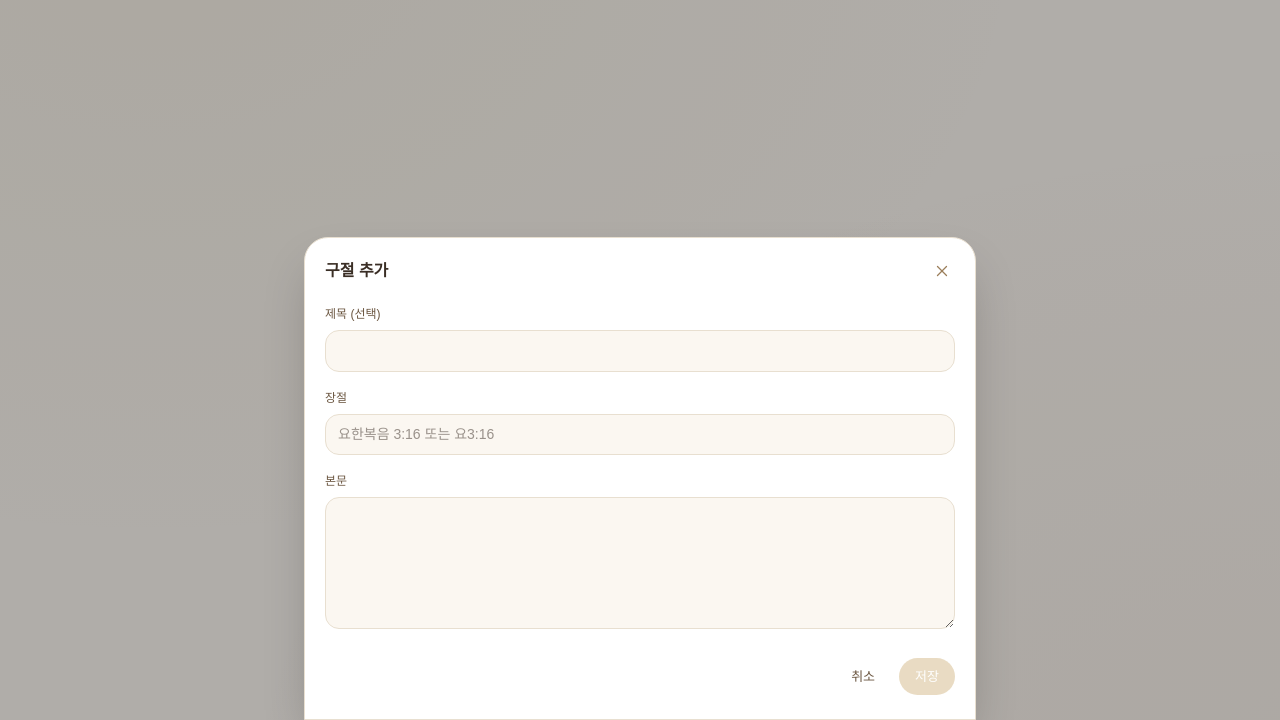
Test case: VerseEditSheet › on blur, normalizes but does NOT overwrite a non-empty 본문
Type "사용자가 직접 적은 내용" into the text box labelled "본문" at (640, 563), box [325,497,955,629]
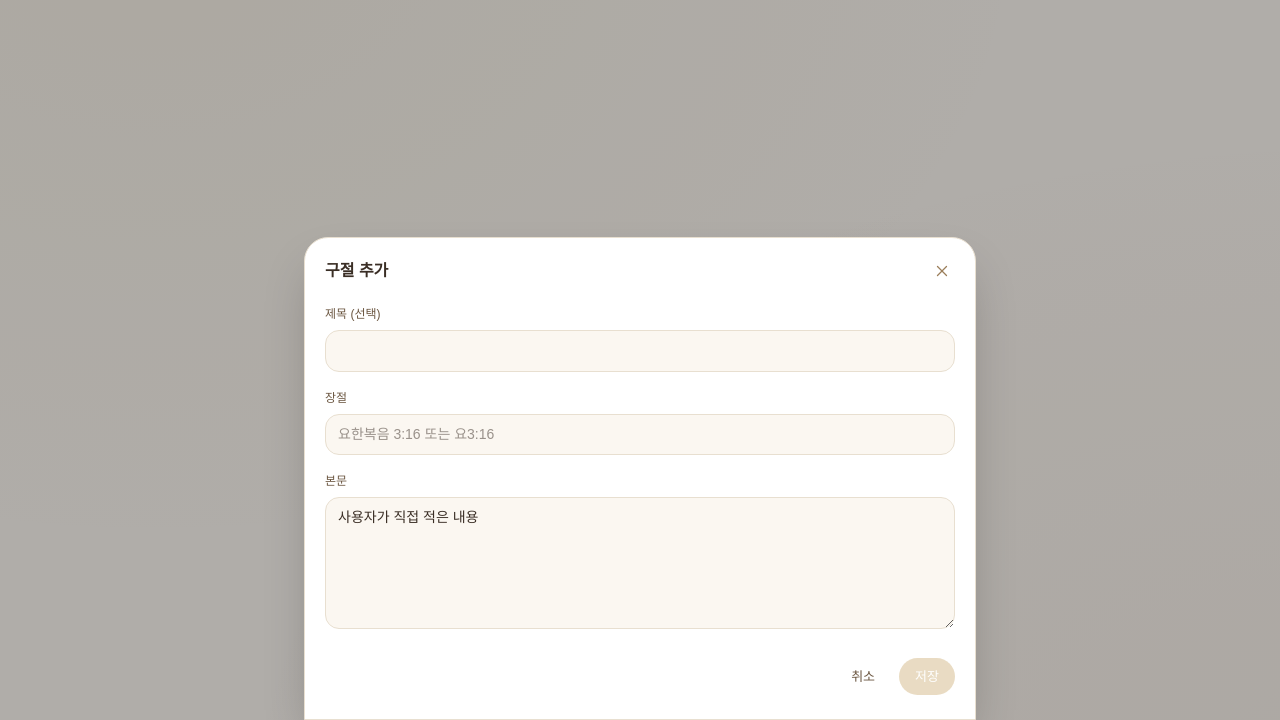
Type "요3:16" into the field labelled "장절" at (640, 434), box [325,414,955,455]
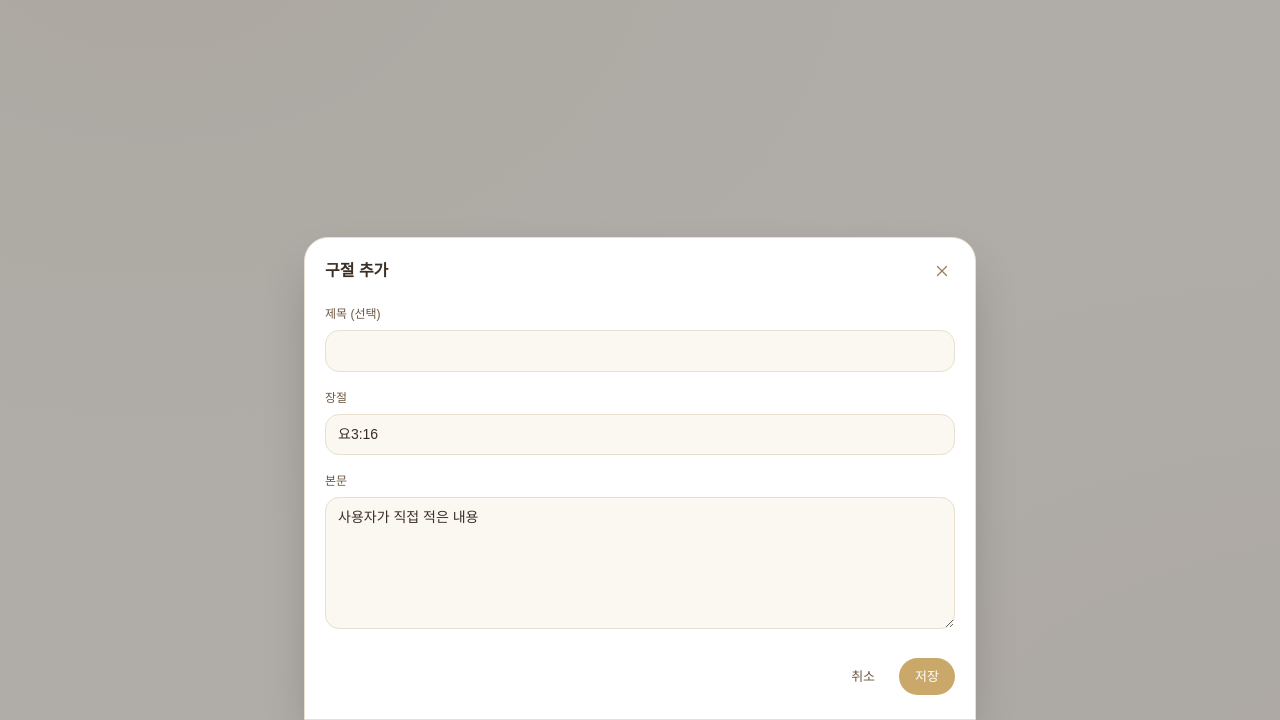
Leave the field labelled "장절", box [325,414,955,455]
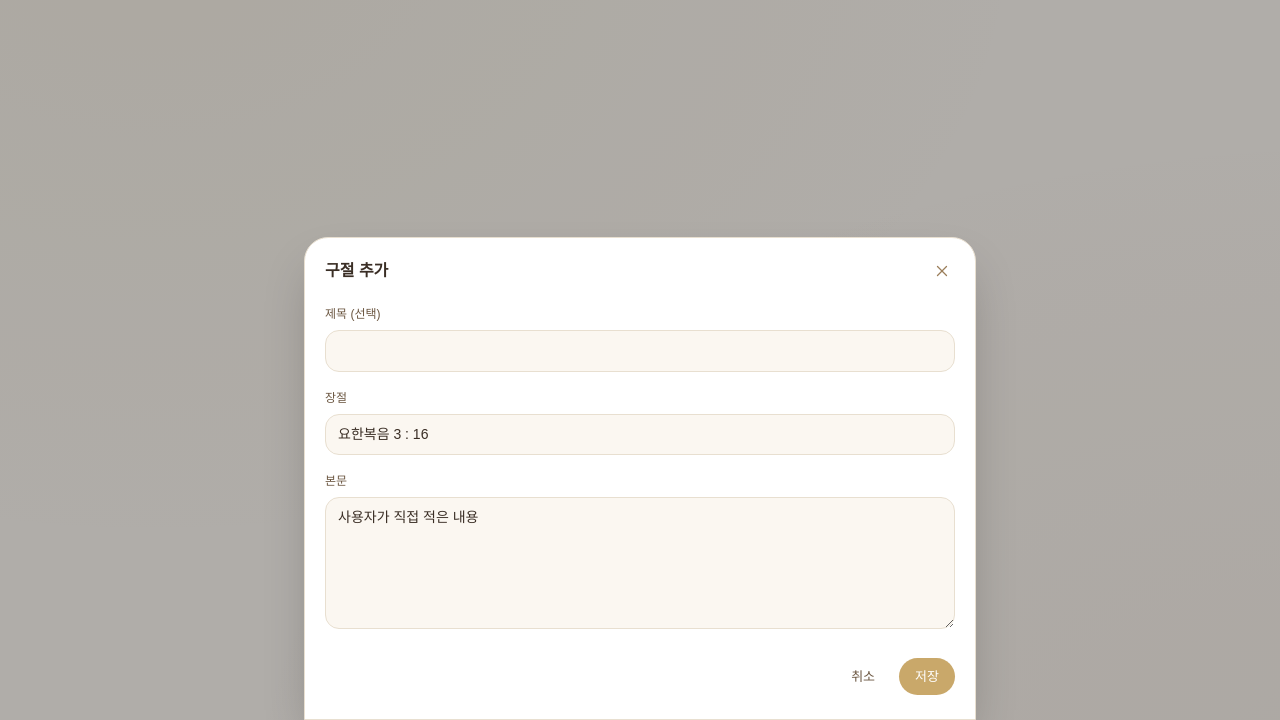
Expected: the field labelled "장절" holds "요한복음 3 : 16", [325,414,955,455]
